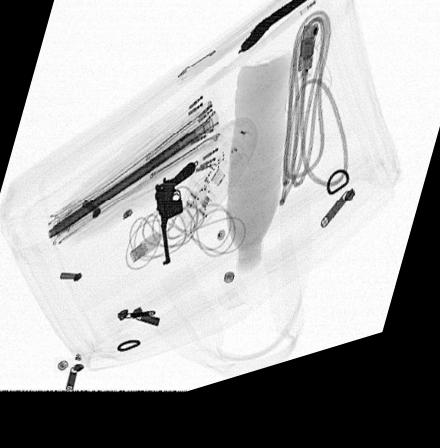Gun: (240, 0, 323, 68), (154, 173, 196, 275)
